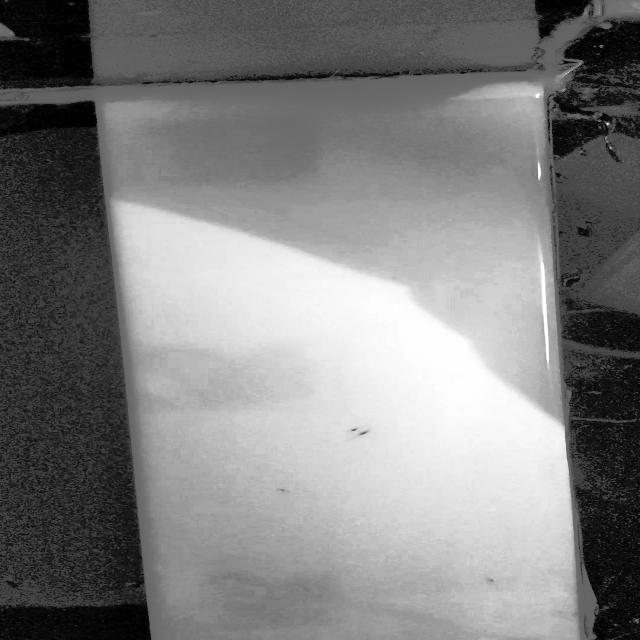shrimp: (356, 429, 377, 439), (339, 423, 362, 432)
